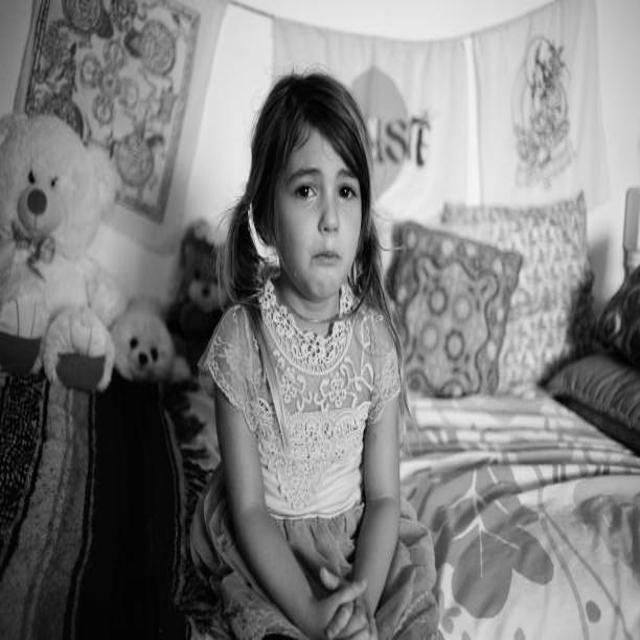Sadness: (271, 125, 364, 302)
